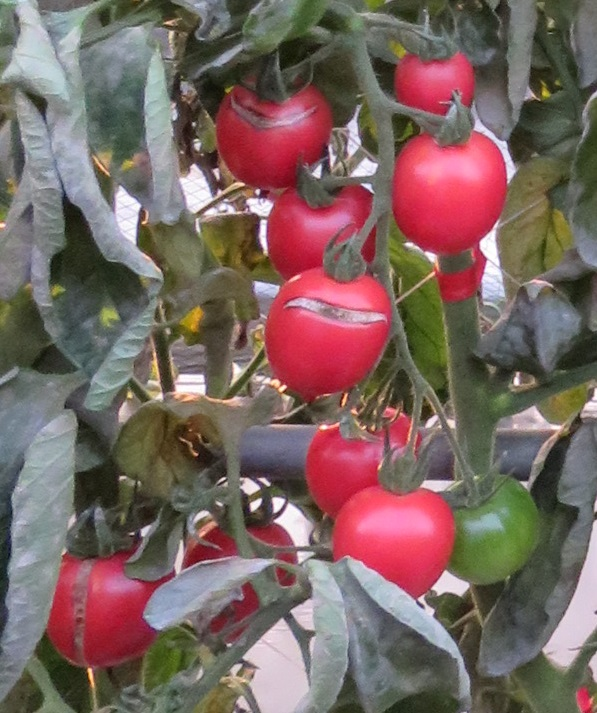green: (437, 467, 546, 590)
red: (45, 538, 168, 672), (269, 264, 392, 397), (330, 482, 455, 607), (215, 78, 338, 191), (393, 130, 512, 246), (266, 176, 381, 281), (302, 402, 431, 488), (396, 49, 489, 113)
